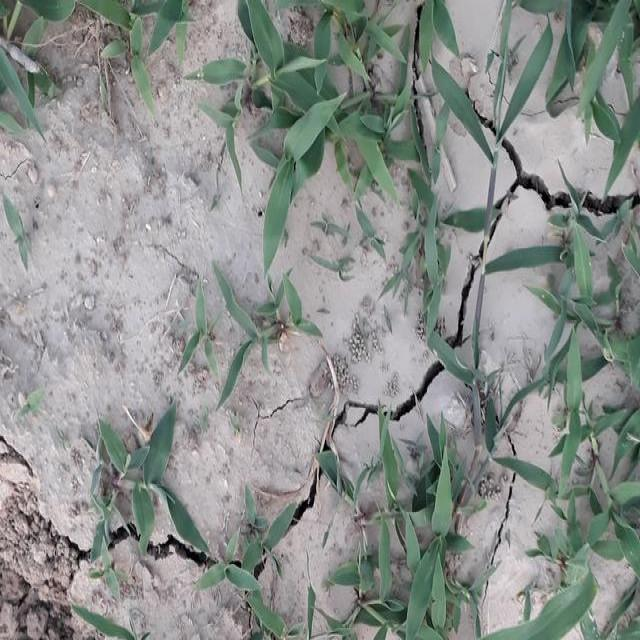weed: (213, 0, 451, 260), (529, 212, 640, 640), (312, 420, 484, 634), (85, 390, 189, 554)
